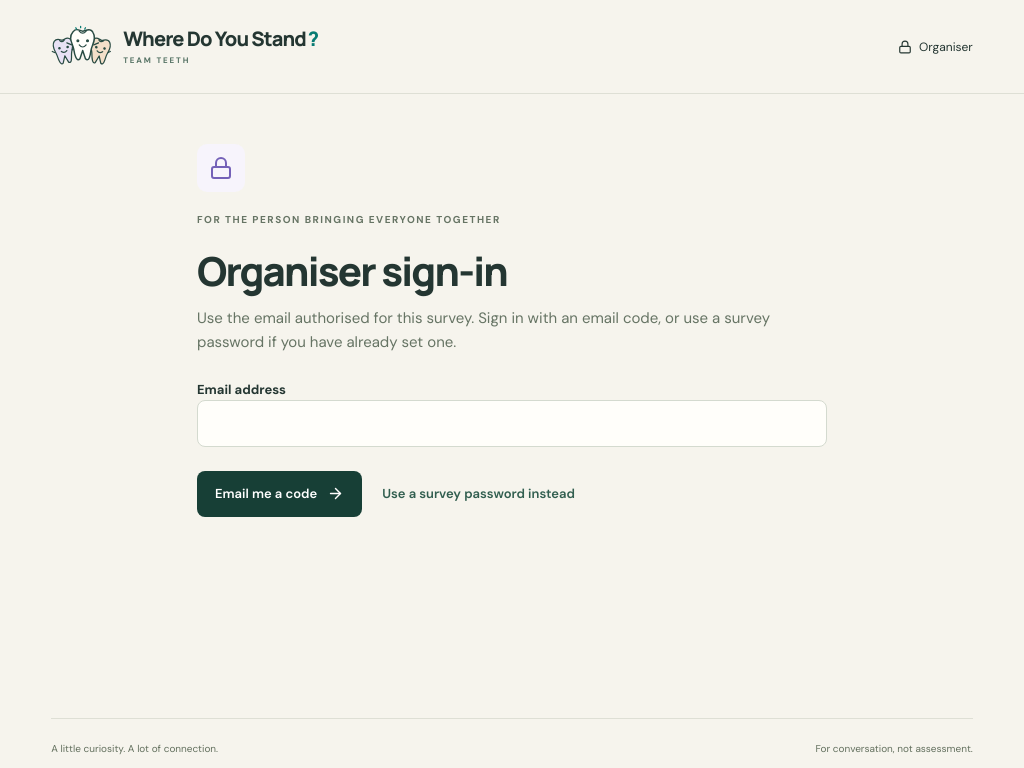
Test case: clears a stale code-sent notice when email delivery becomes rate limited
Type "qa@example.test" into the field labelled "Email address" at point(512, 423), box [197,400,827,447]
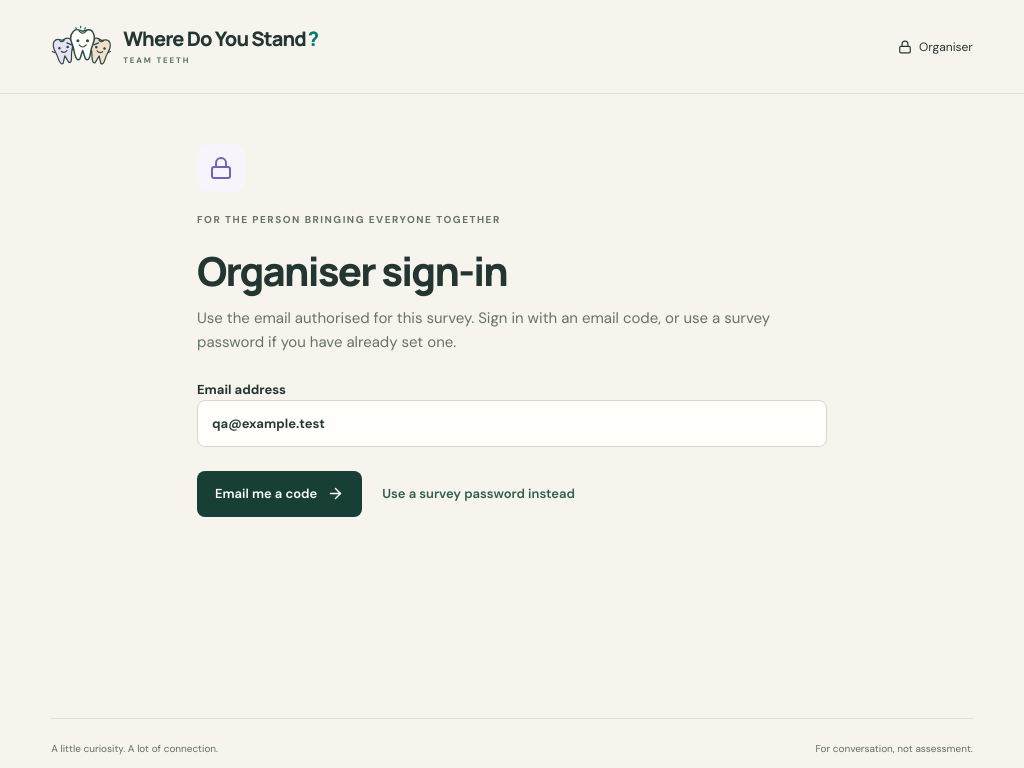
Click the button "Email me a code" at point(280, 494), box [197,471,362,517]
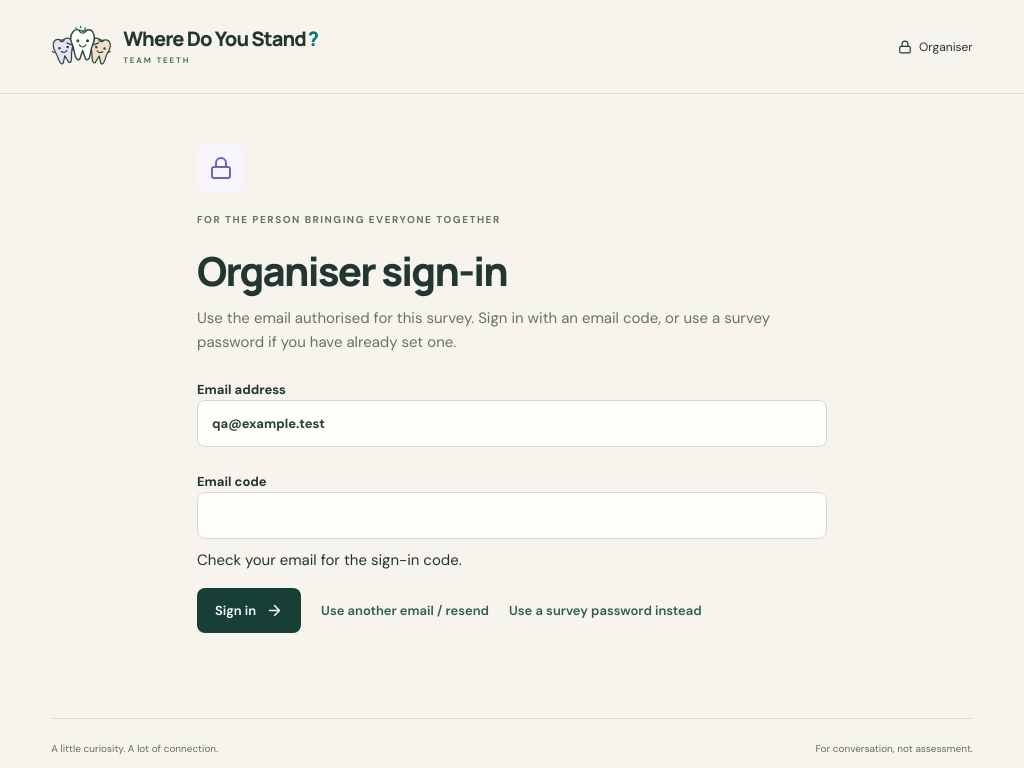
Now the field labelled "Email code" is shown, box [197,492,827,539]
Now the message shows "Check your email", box [197,550,462,570]
Click the button "Use another email / resend" at point(405, 611), box [321,594,489,627]
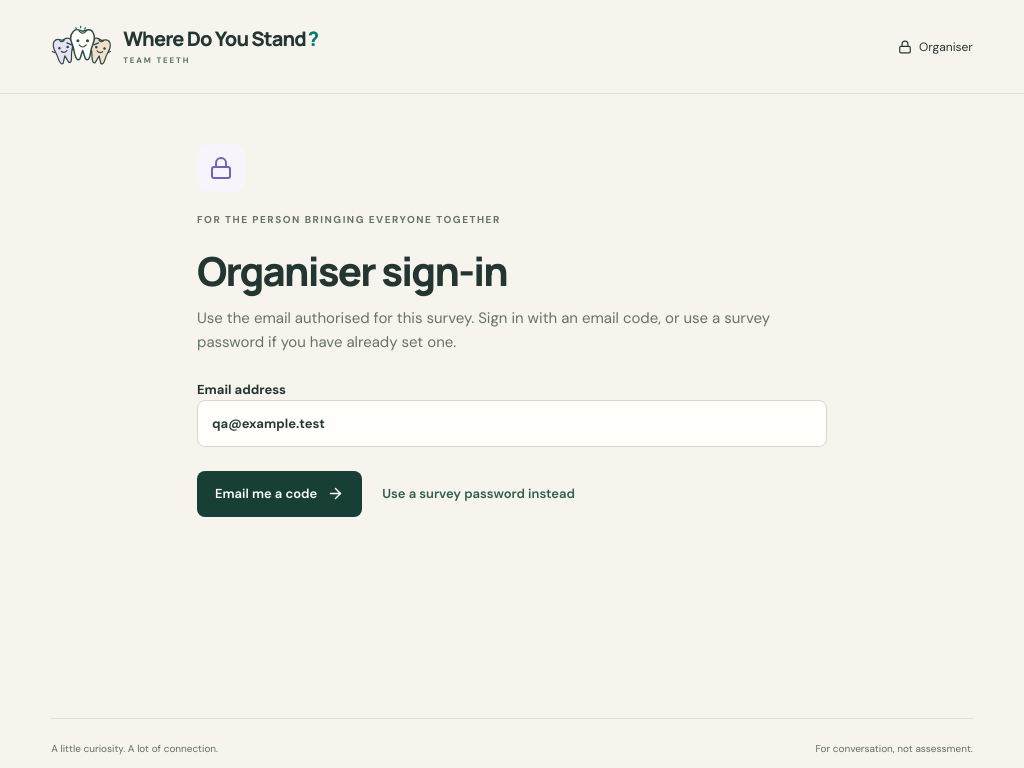
Click the button "Email me a code" at point(280, 494), box [197,471,362,517]
(page scrolled)
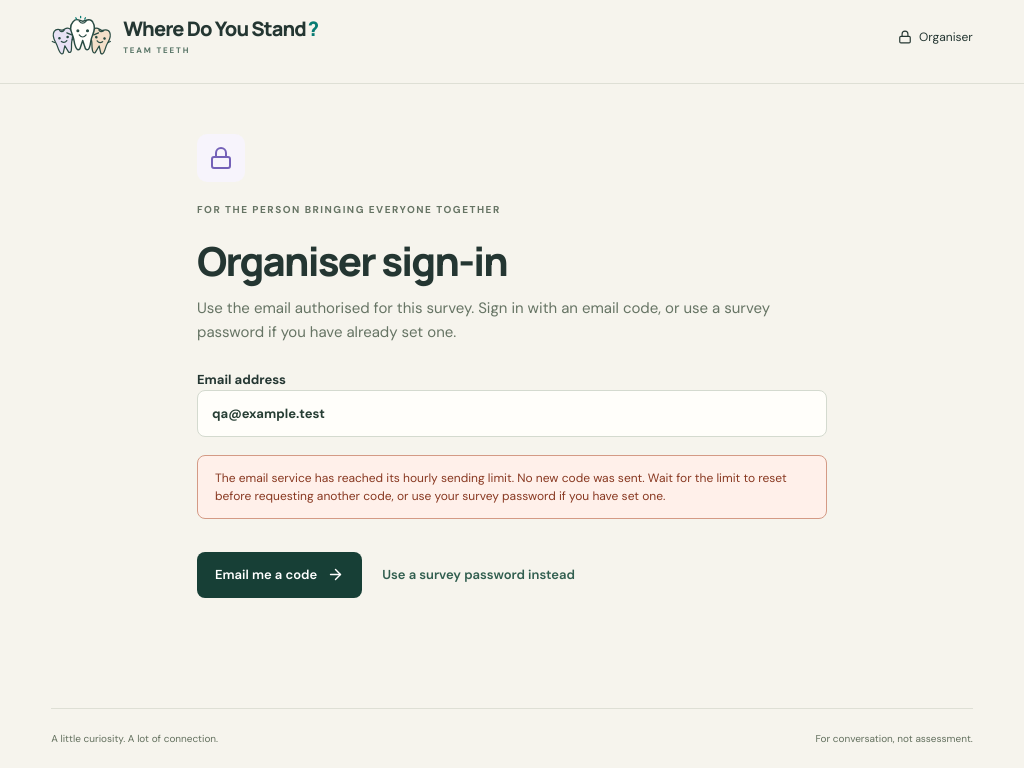
Now the message shows "No new code was sent", box [215,470,787,504]
